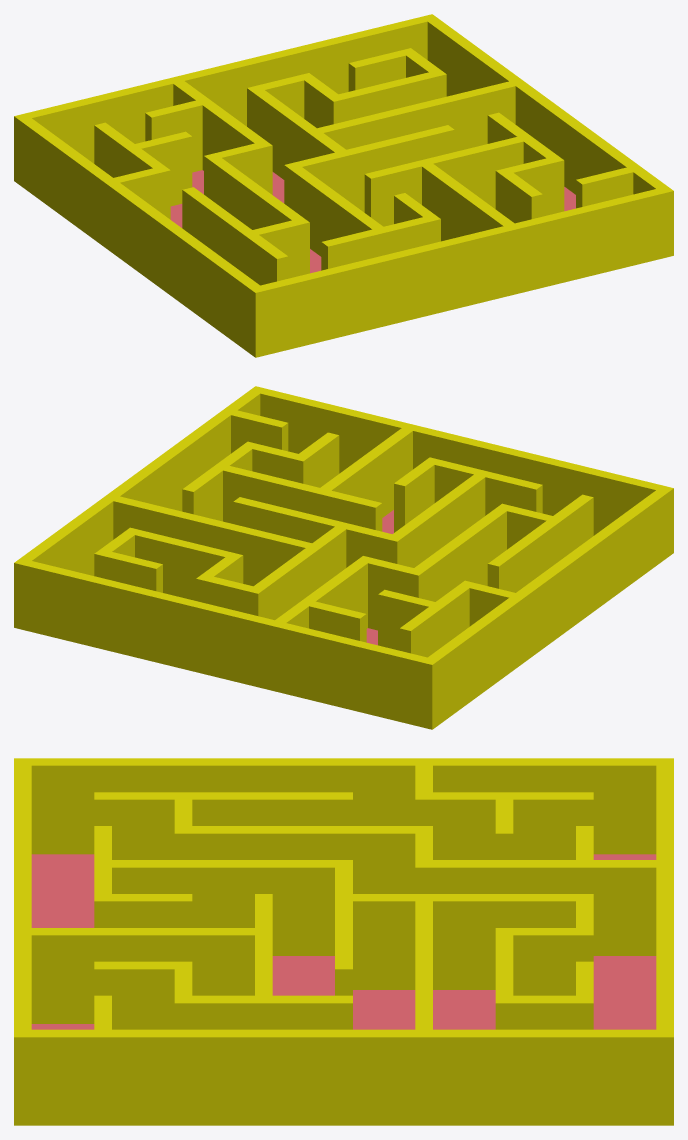
Rendered from Level10Ground.FBX.
3 renders of one model, top to bottom at view 1: azimuth 30°, elevation 25°; view 2: azimuth 150°, elevation 25°; view 3: azimuth 270°, elevation 25°, orthographic. The views are drawn at different scales.
Parts seen in each view (by area): view 1: pPlane2; view 2: pPlane2; view 3: pPlane2.
Part boxes in pixels (bbox=[...]): pPlane2: bbox=[14, 14, 673, 357]; pPlane2: bbox=[14, 386, 673, 729]; pPlane2: bbox=[14, 758, 673, 1125].
Size of the model in its own units: 189 by 28 by 189.
